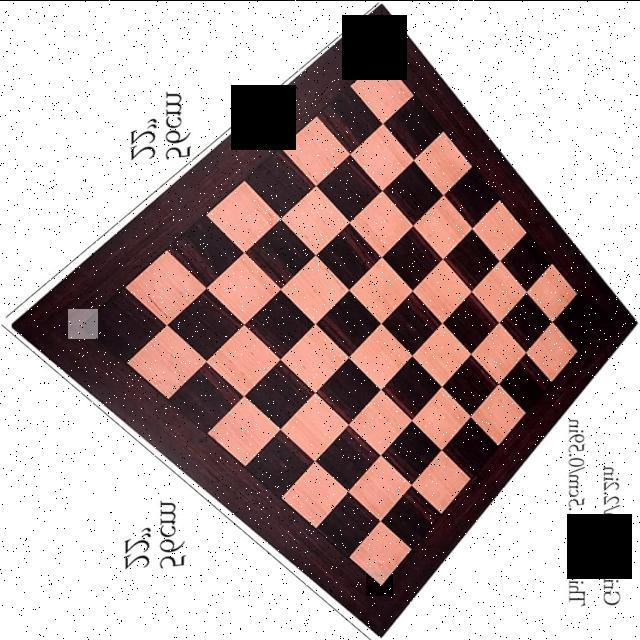chess-table-corners: (68, 308, 98, 338), (368, 46, 396, 74), (366, 569, 393, 595)
